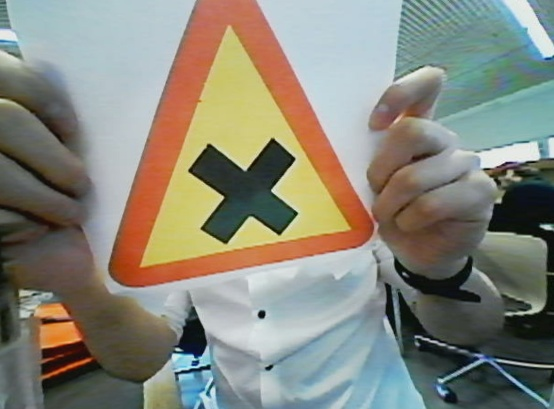junction: (119, 5, 373, 286)
